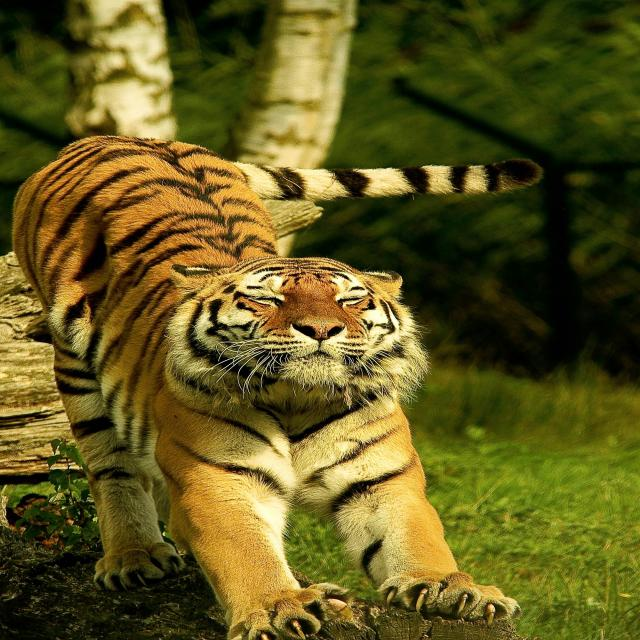Tiger: (10, 134, 544, 640)
